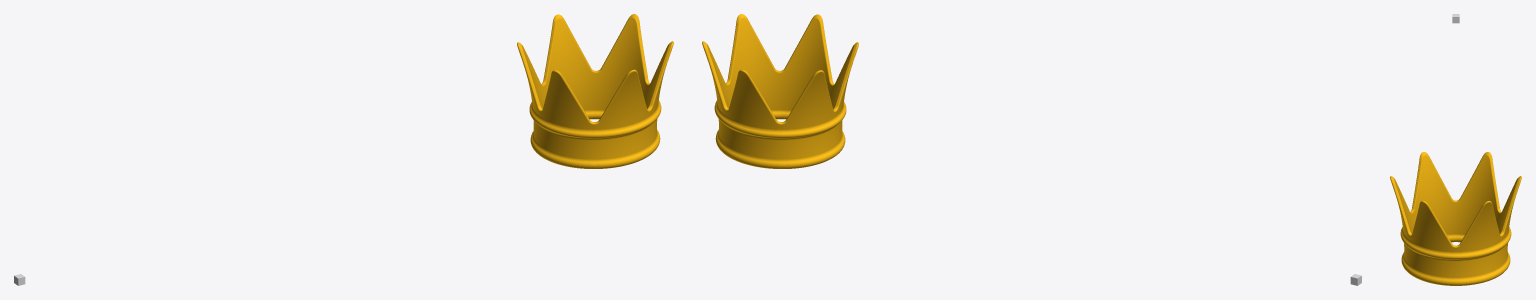
The model's file is crown.glb.
The picture shows the model from 3 angles, left to right: view 1: azimuth 30°, elevation 25°; view 2: azimuth 150°, elevation 25°; view 3: azimuth 270°, elevation 25°; orthographic projection. The views are drawn at different scales.
Visible parts, largest first — view 1: Crown; view 2: Crown; view 3: Crown.
Boxes of the visible parts, box(x1,y1,x2,y2) form: Crown: box(517, 14, 673, 168); Crown: box(702, 14, 858, 168); Crown: box(1390, 152, 1521, 285).
Size of the model in its own units: 181 by 27.32 by 37.57.
